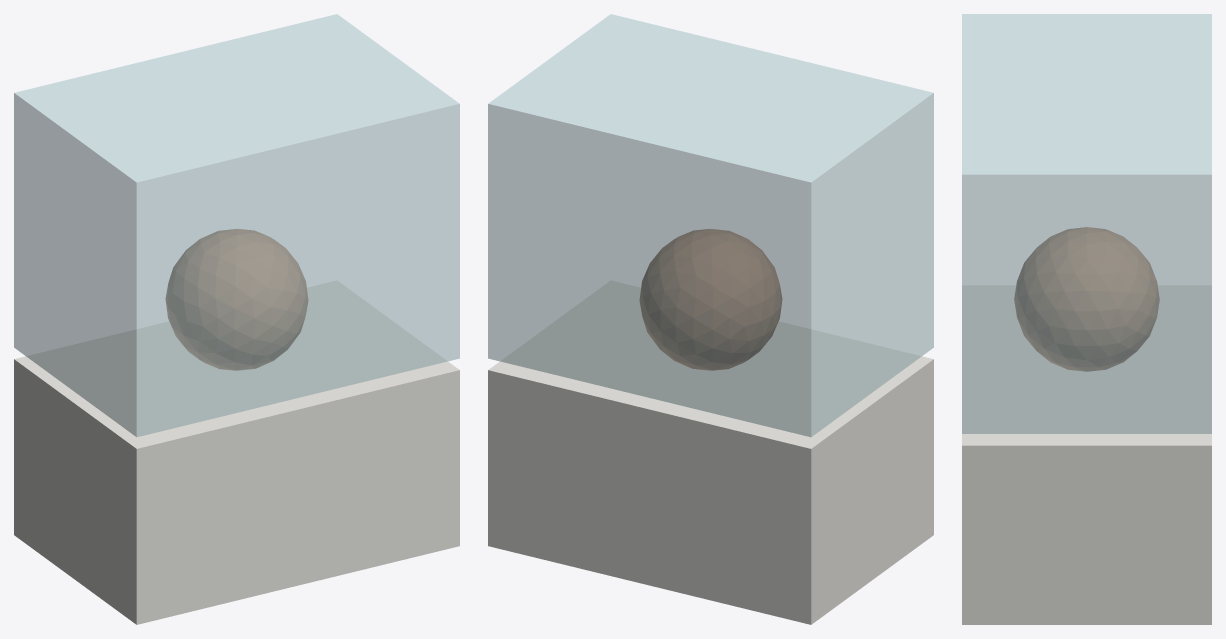
The model's file is display_case_03.glb.
3 views of the same model, side by side, from view 1: azimuth 30°, elevation 25°; view 2: azimuth 150°, elevation 25°; view 3: azimuth 270°, elevation 25° (orthographic).
Visible parts, largest first — view 1: glass, base, artifact; view 2: glass, base, artifact; view 3: glass, base, artifact.
Boxes of the visible parts, box(x1,y1,x2,y2) form: glass: box(14, 14, 459, 436); base: box(14, 280, 459, 624); artifact: box(165, 229, 308, 370); glass: box(488, 14, 933, 436); base: box(488, 280, 933, 624); artifact: box(639, 229, 782, 370); glass: box(962, 14, 1211, 433); base: box(962, 285, 1211, 624); artifact: box(1014, 227, 1159, 371).
Bounding box in the file's own units: 0.73 × 0.955 × 0.48.
